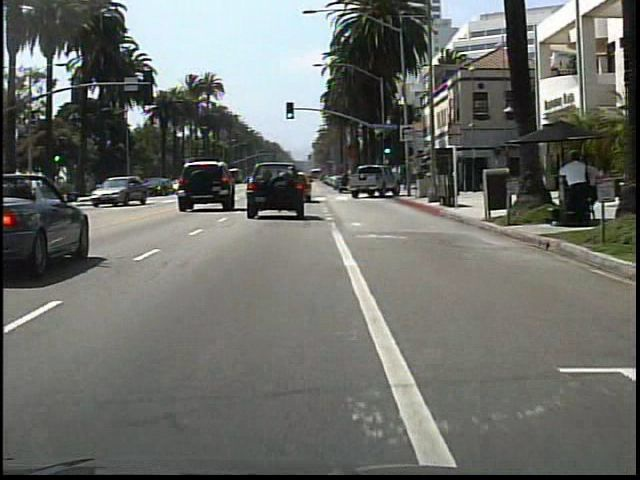person: (555, 150, 588, 231), (578, 152, 605, 230)
